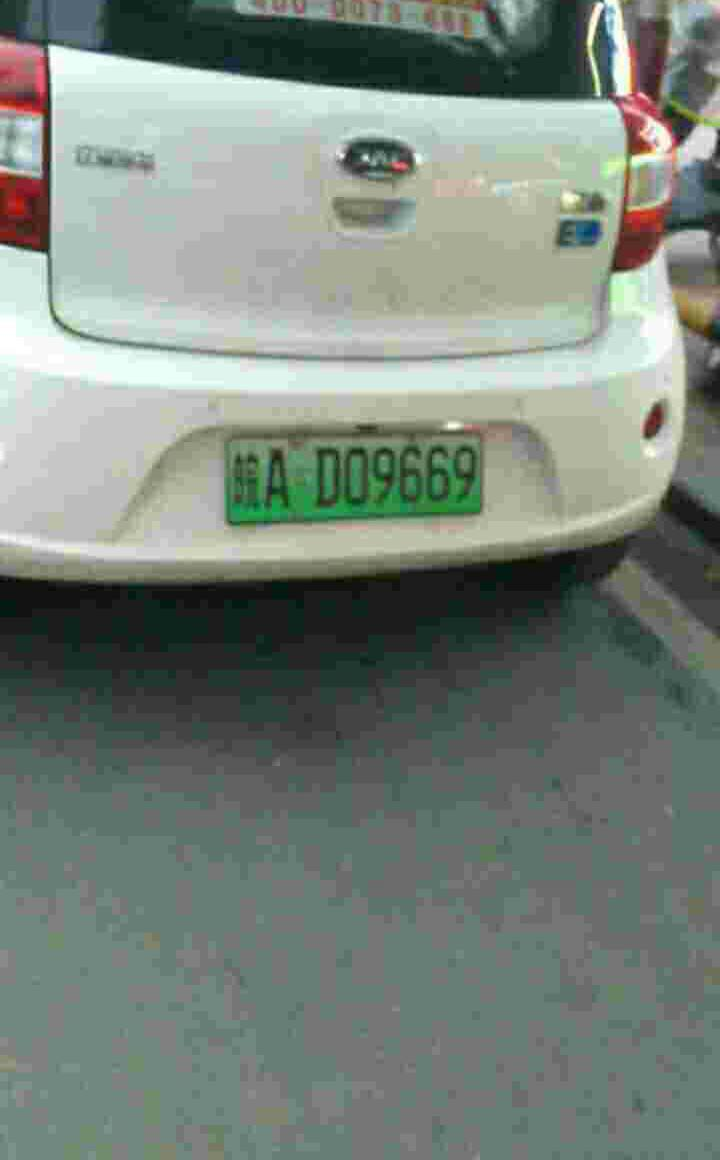car_green: (226, 437, 483, 525)
